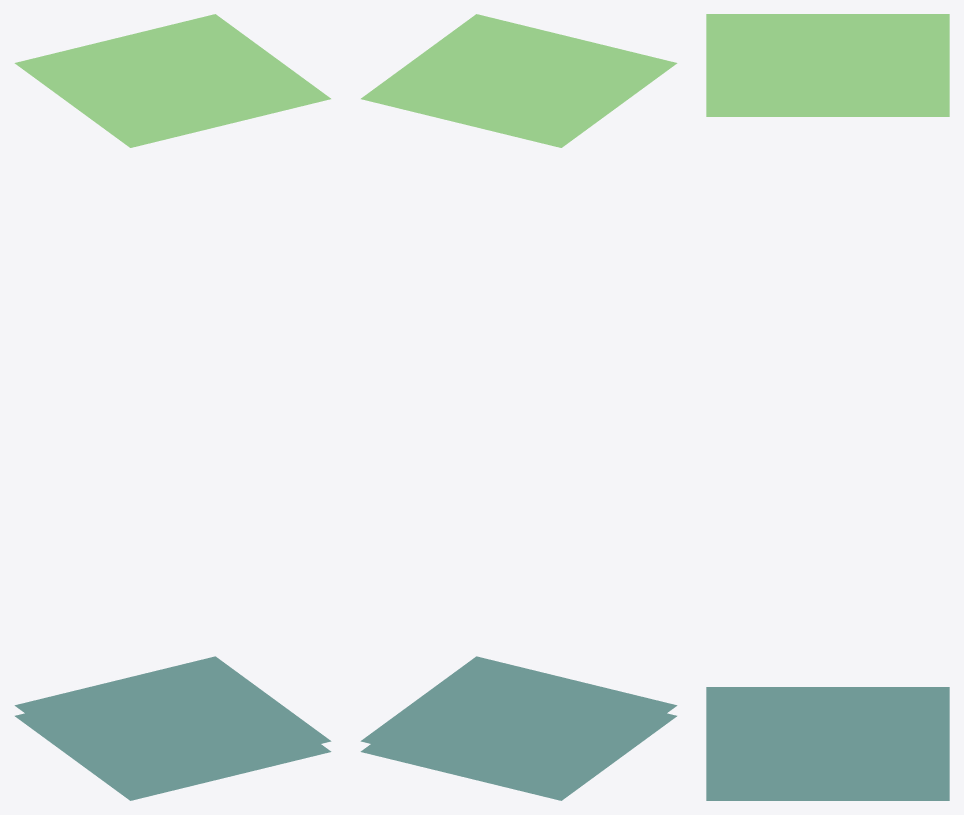
The model's file is Room_wall_1x1_no_walls.fbx.
The picture shows the model from 3 angles, left to right: view 1: azimuth 30°, elevation 25°; view 2: azimuth 150°, elevation 25°; view 3: azimuth 270°, elevation 25°; orthographic projection. The views are drawn at different scales.
Parts seen in each view (by area): view 1: Wall_1x1_no_sides; view 2: Wall_1x1_no_sides; view 3: Wall_1x1_no_sides.
Part boxes in pixels (left/top/right/bottom): Wall_1x1_no_sides: left=14, top=14, right=331, bottom=800; Wall_1x1_no_sides: left=360, top=14, right=677, bottom=800; Wall_1x1_no_sides: left=706, top=14, right=949, bottom=800.
Size of the model in its own units: 1 by 3.1 by 1.
